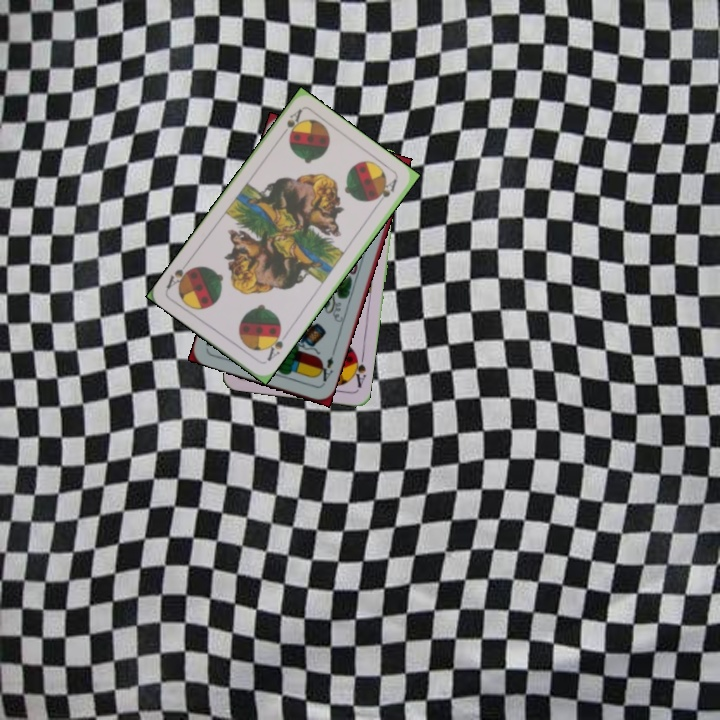EA: (313, 352, 336, 387)
SA: (262, 326, 290, 364), (276, 105, 305, 141), (348, 350, 368, 390)
